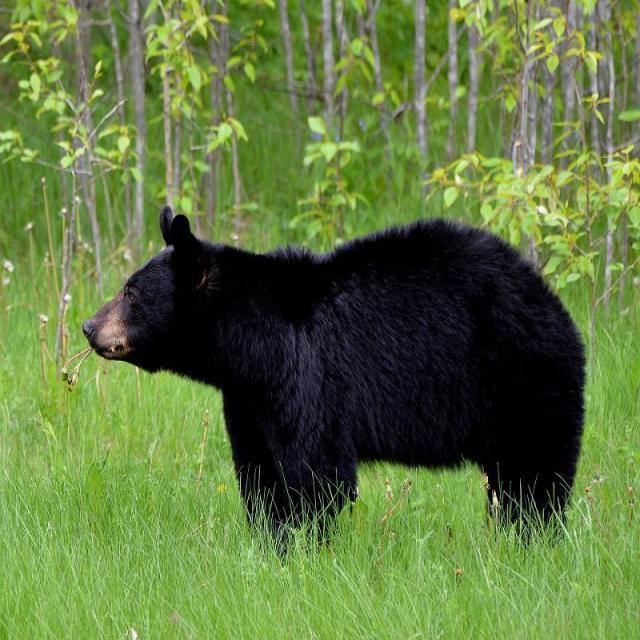bear: (33, 127, 640, 640)
